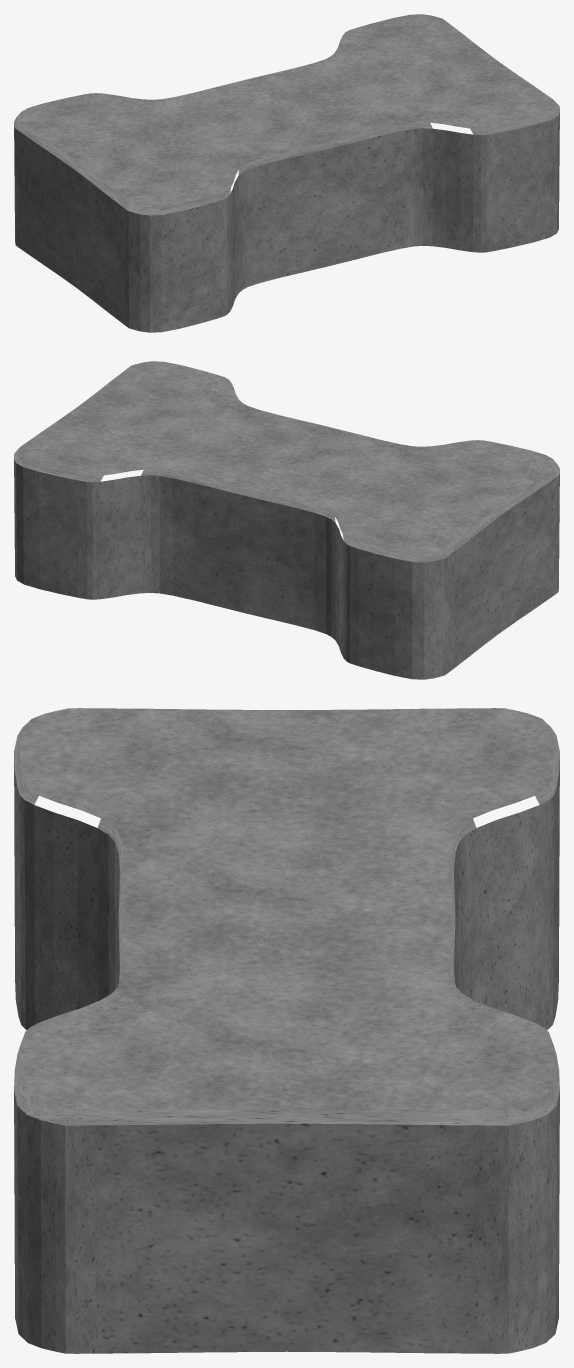
File: concrete-interlocking-paver-hourglass.glb
3 views of the same model, one above another, from view 1: azimuth 30°, elevation 25°; view 2: azimuth 150°, elevation 25°; view 3: azimuth 270°, elevation 25° (orthographic). The views are drawn at different scales.
Parts seen in each view (by area): view 1: concrete-interlocking-paver-hourglass; view 2: concrete-interlocking-paver-hourglass; view 3: concrete-interlocking-paver-hourglass.
Part boxes in pixels (x1,y1,x2,y2): concrete-interlocking-paver-hourglass: [14, 14, 559, 332]; concrete-interlocking-paver-hourglass: [14, 361, 559, 679]; concrete-interlocking-paver-hourglass: [14, 708, 559, 1353].
Bounding box in the file's own units: 0.2303 × 0.063 × 0.1296.
1 material, 1 textured.
